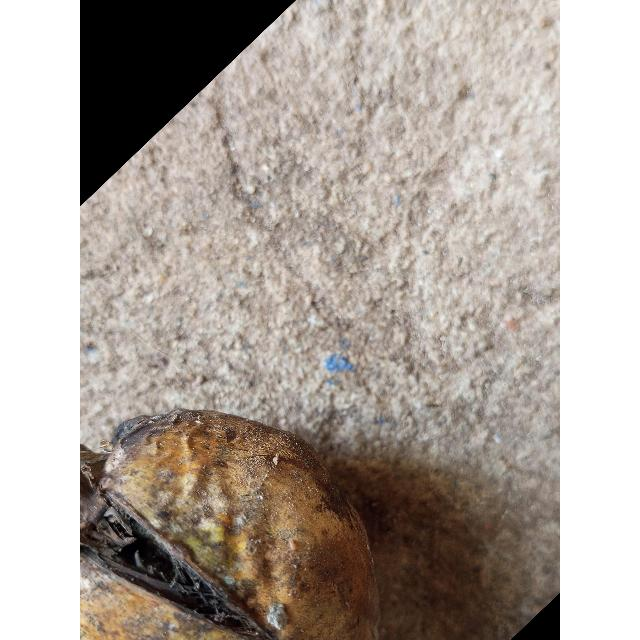damaged: (80, 410, 379, 640)
